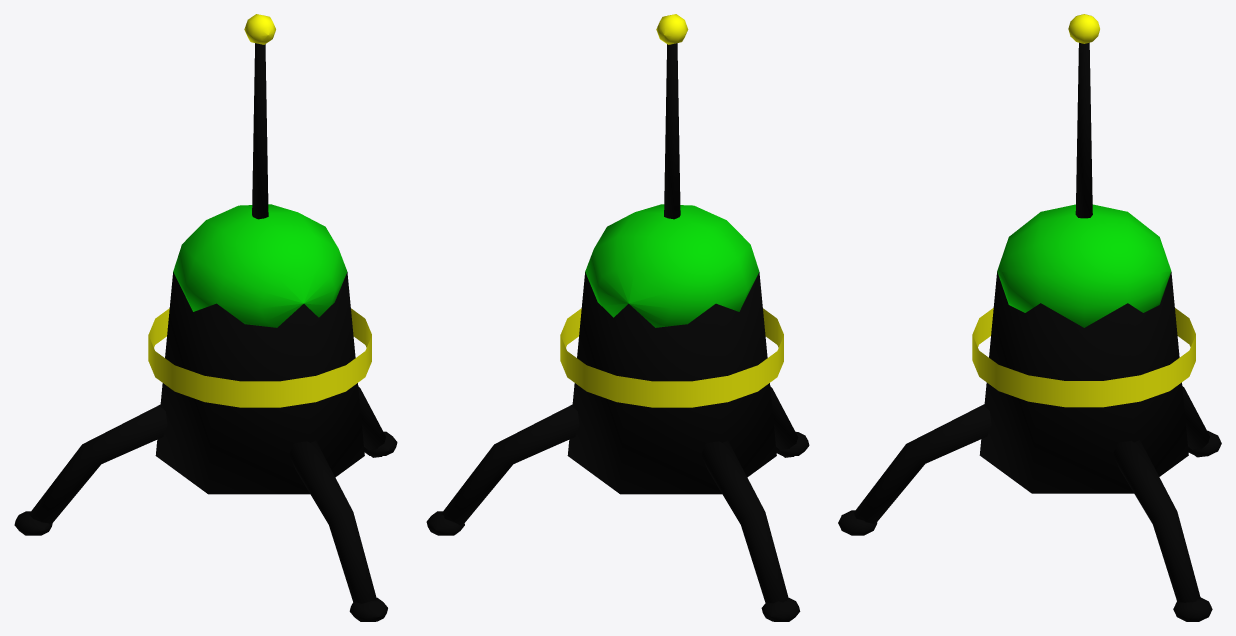
The model's file is Operative_Beacon.fbx.
The picture shows the model from 3 angles, left to right: view 1: azimuth 30°, elevation 25°; view 2: azimuth 150°, elevation 25°; view 3: azimuth 270°, elevation 25°; orthographic projection.
Visible parts, largest first — view 1: Operative_Beacon; view 2: Operative_Beacon; view 3: Operative_Beacon.
Boxes of the visible parts, left/top/right/bottom form: Operative_Beacon: left=14, top=14, right=397, bottom=621; Operative_Beacon: left=426, top=14, right=809, bottom=621; Operative_Beacon: left=838, top=14, right=1221, bottom=621.
Size of the model in its own units: 14.8 by 19.79 by 13.22.
